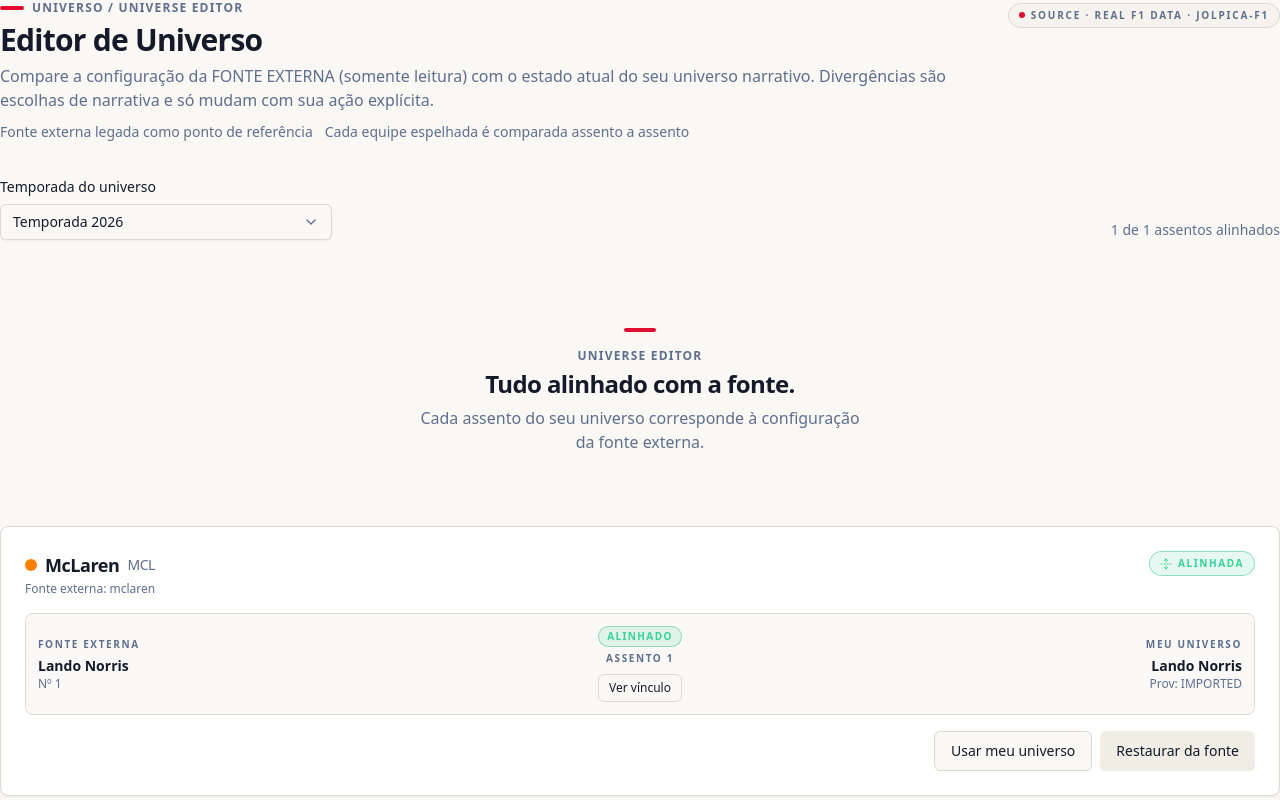
Test case: Universe Editor — Reconciliação de fonte › assento alinhado mostra Ver vínculo e permite desfazer o vínculo
Check: the heading "Editor de Universo" is shown, box [0,19,262,60]
Click the button "Ver vínculo" at (640, 688), box [598,674,682,702]
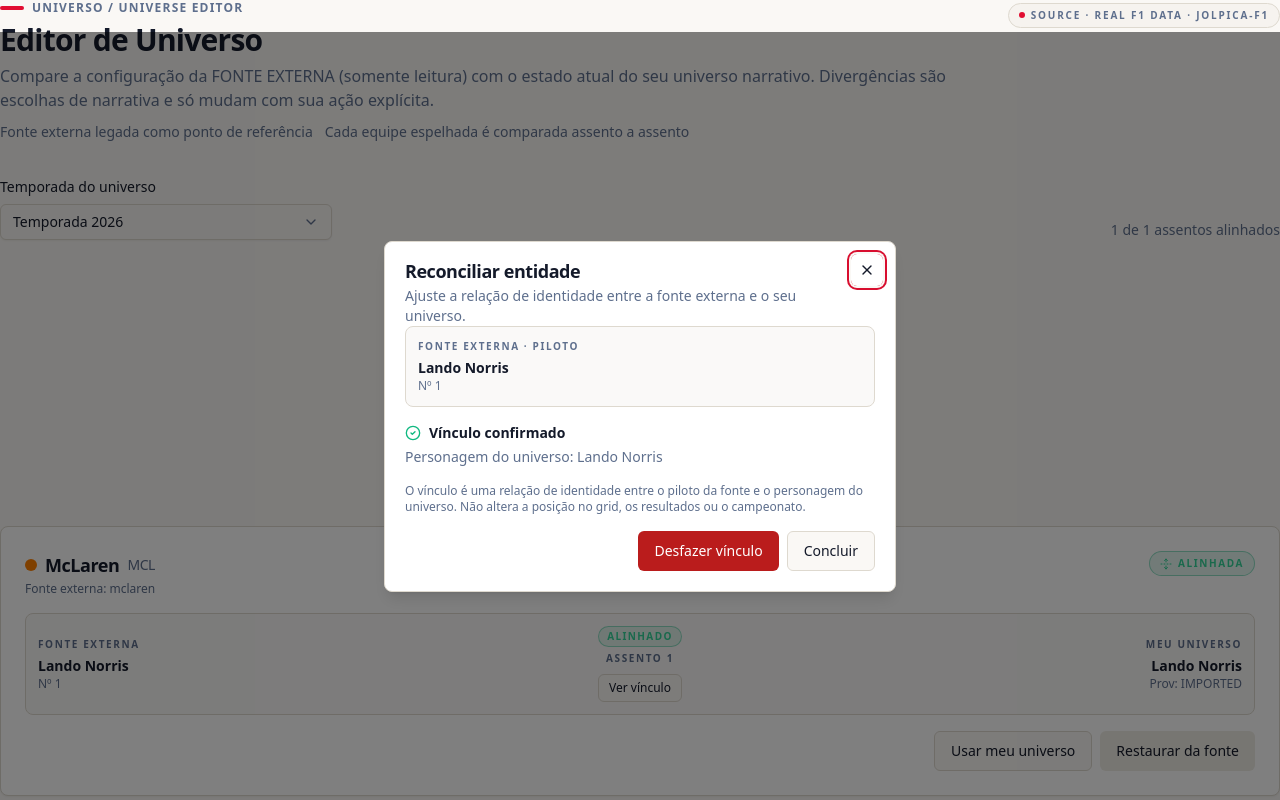
Check: the text "Vínculo confirmado" is shown, box [405,422,565,442]
Check: the text "Lando Norris" is shown, box [418,358,509,376]
Click the button "Desfazer vínculo" at (708, 550), box [638,530,779,570]
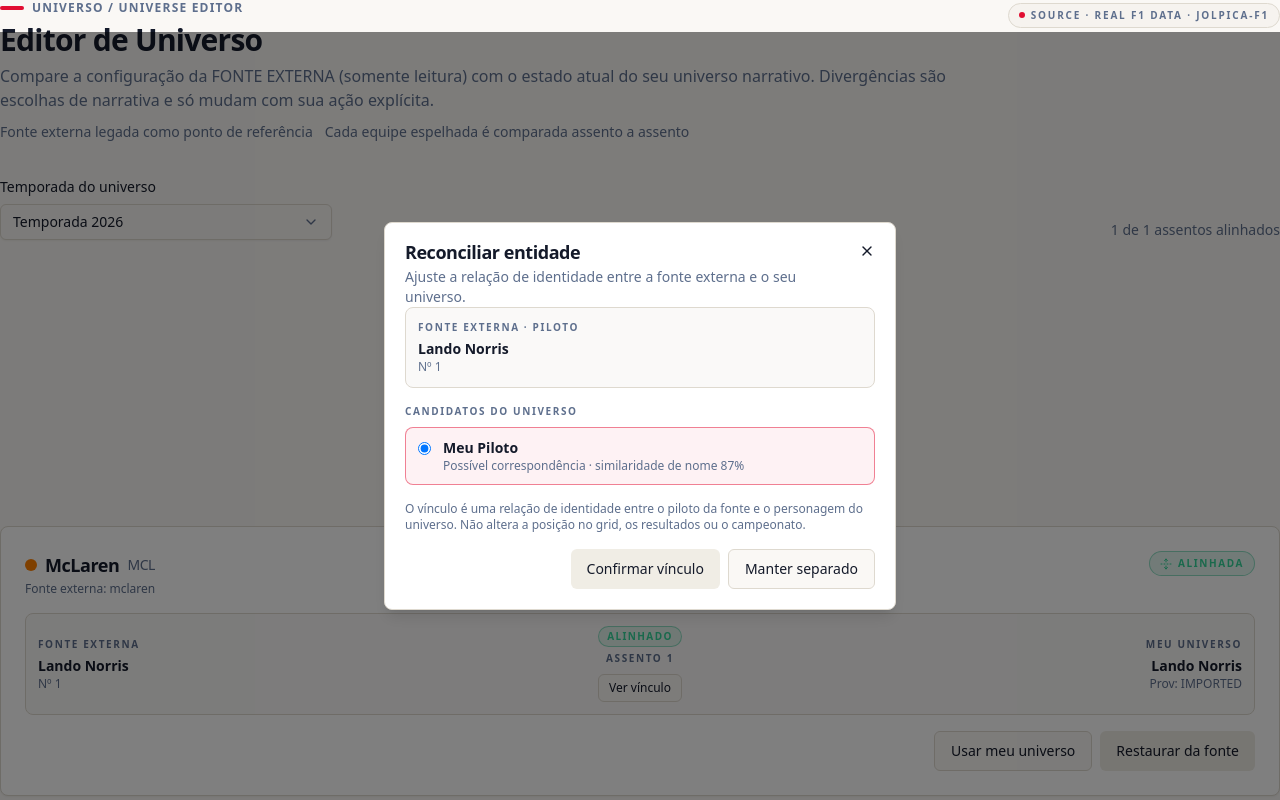
Check: the text "Possível correspondência · similaridade de nome 87%" is shown, box [443,458,744,474]
